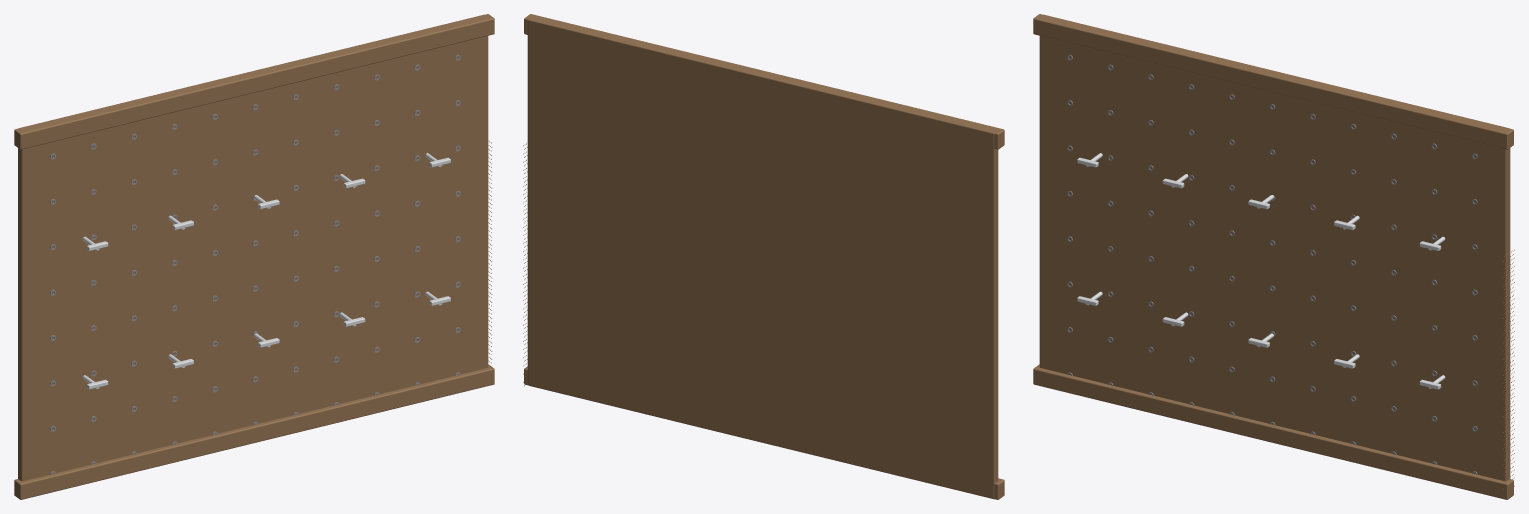
Rendered from mega-weapon-pack-pistol-pegboard-e5428aa5__33427.glb.
3 views of the same model, side by side, from view 1: azimuth 30°, elevation 25°; view 2: azimuth 150°, elevation 25°; view 3: azimuth 330°, elevation 25° (orthographic).
Visible parts, largest first — view 1: pistol-pegboard; view 2: pistol-pegboard; view 3: pistol-pegboard.
Boxes of the visible parts, <box> form: pistol-pegboard: <box>14,14,494,499</box>; pistol-pegboard: <box>523,14,1004,499</box>; pistol-pegboard: <box>1033,14,1514,499</box>.
Size of the model in its own units: 1.22 by 0.9001 by 0.1026.
